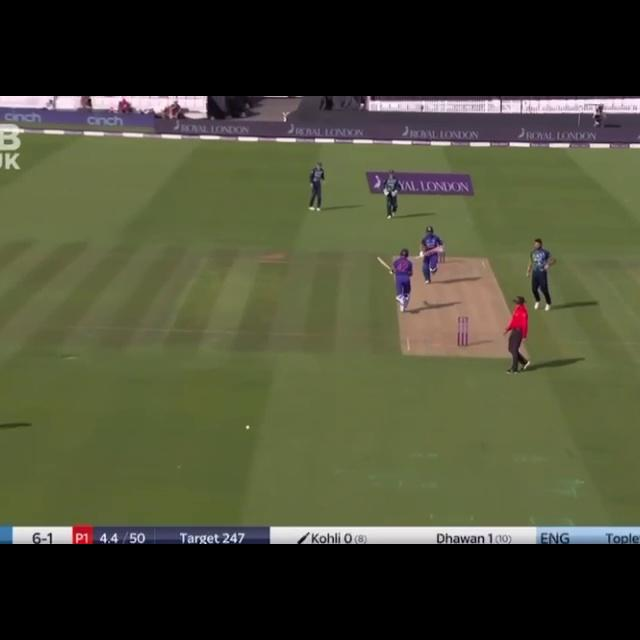umpire: (496, 294, 540, 375)
